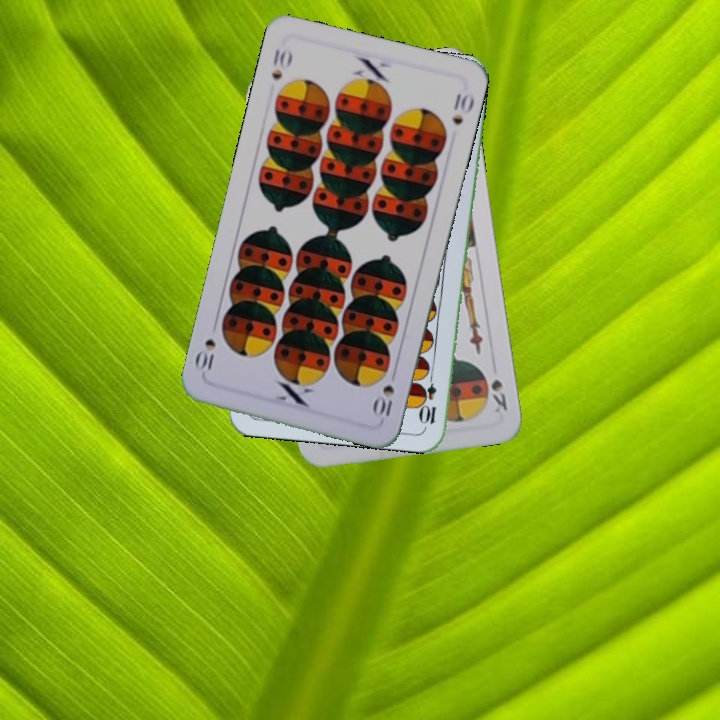E10: (419, 367, 439, 427)
S10: (267, 42, 295, 82), (370, 380, 397, 419)
SK: (487, 375, 510, 414)
